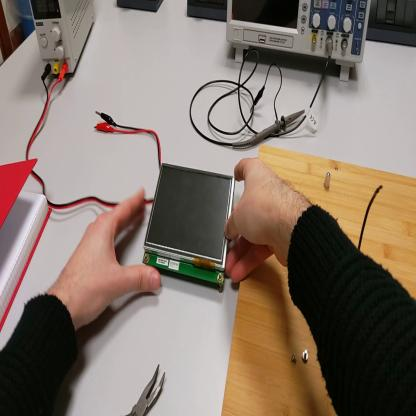hand: (60, 189, 161, 328), (224, 154, 293, 283)
low voltage board: (359, 183, 383, 251)
oscilloscope: (228, 1, 372, 89)
oscilloscope probe tip: (225, 110, 309, 148)
pliers: (127, 361, 166, 416)
power supply: (30, 1, 98, 78)
register: (2, 160, 54, 333)
socket: (188, 1, 227, 27), (117, 1, 165, 13)
working area: (222, 142, 416, 416)
